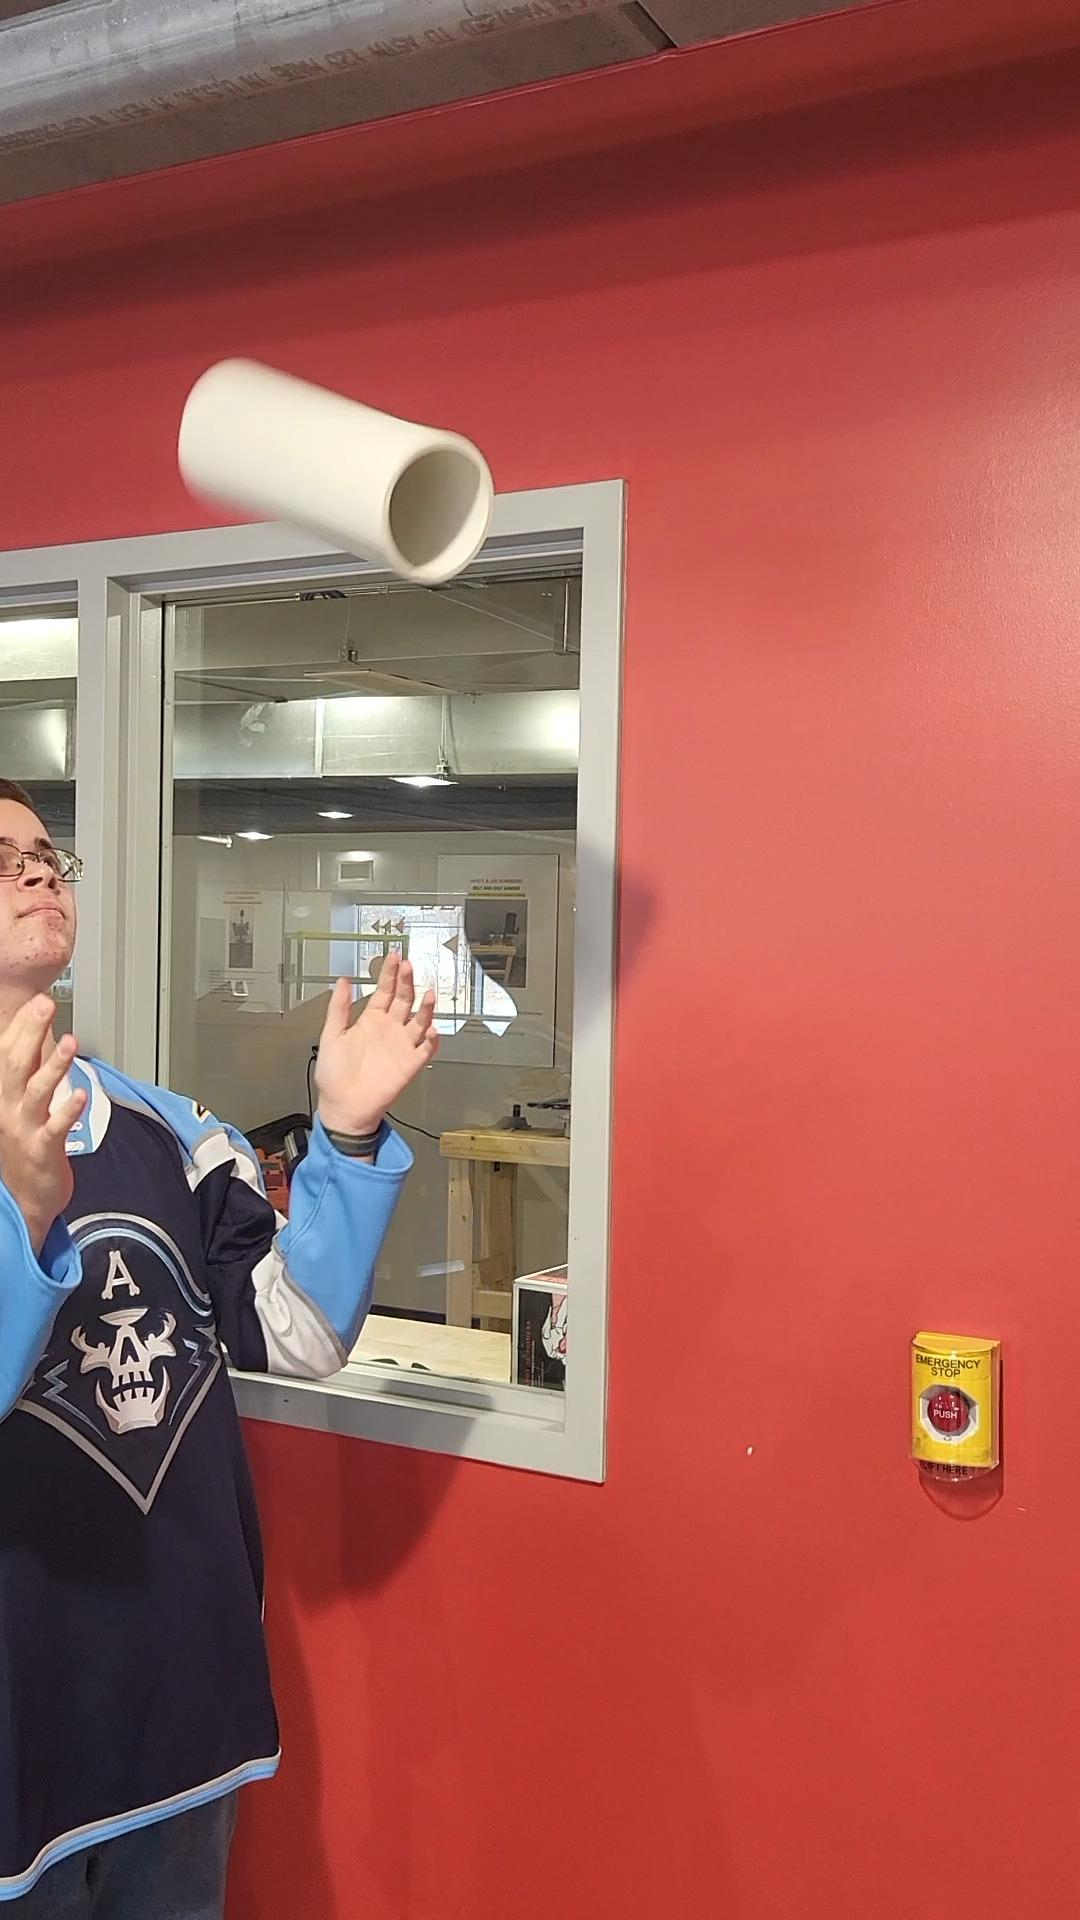coral: (170, 357, 506, 596)
